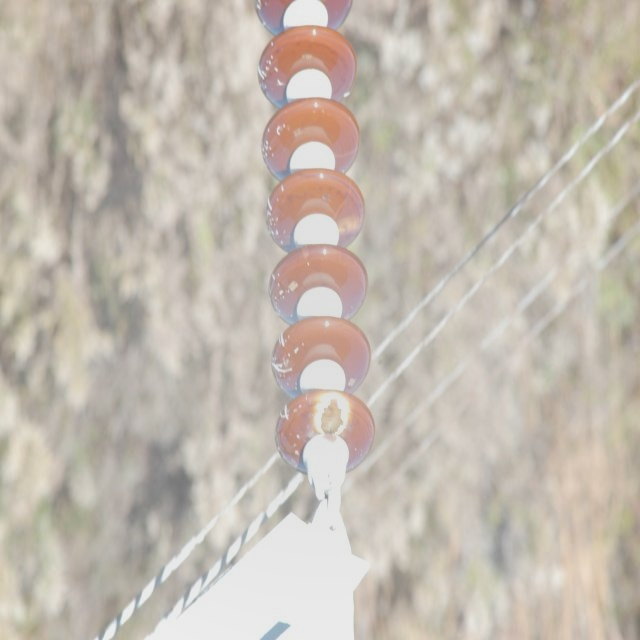insulator: (256, 0, 375, 472)
